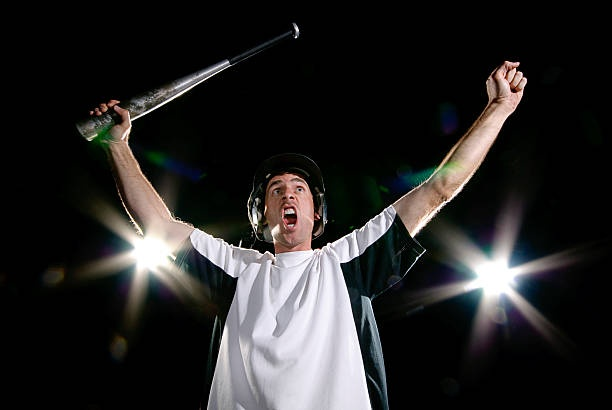bita: (77, 18, 302, 141)
